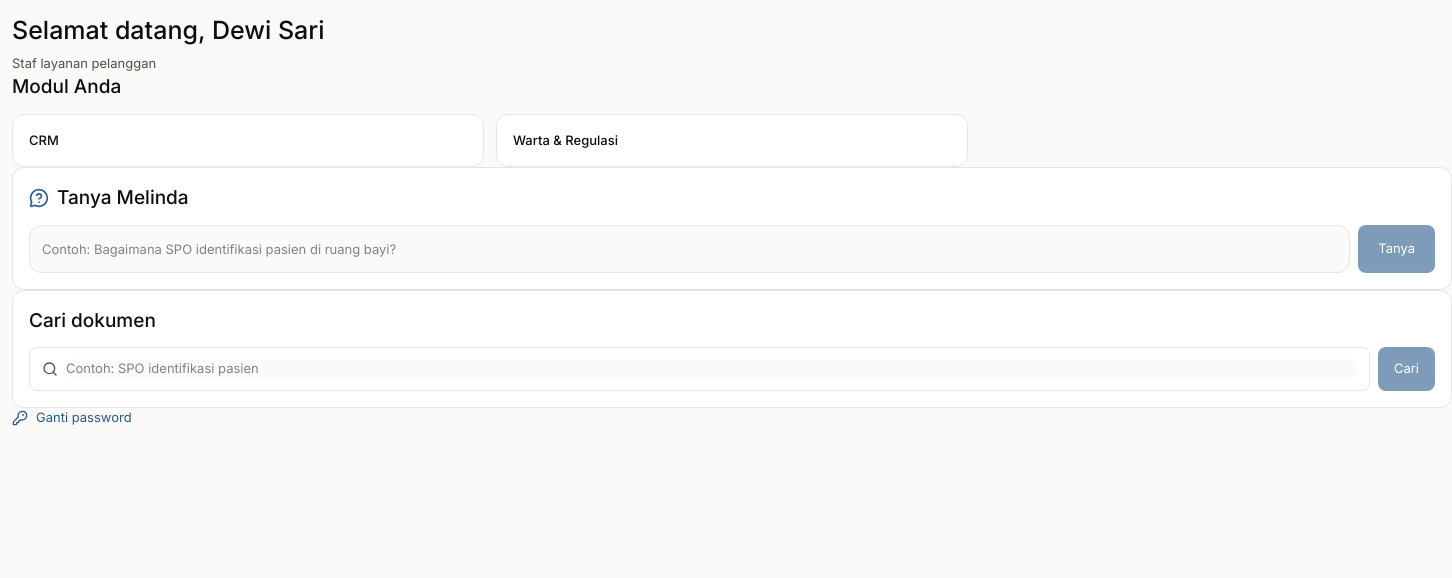
Test case: staff workspace › shows answer sources as plain text without links to the knowledge page
Type "cuci tangan" into the field named "Pertanyaan untuk Tanya Melinda" at (690, 248), box [29,224,1350,272]
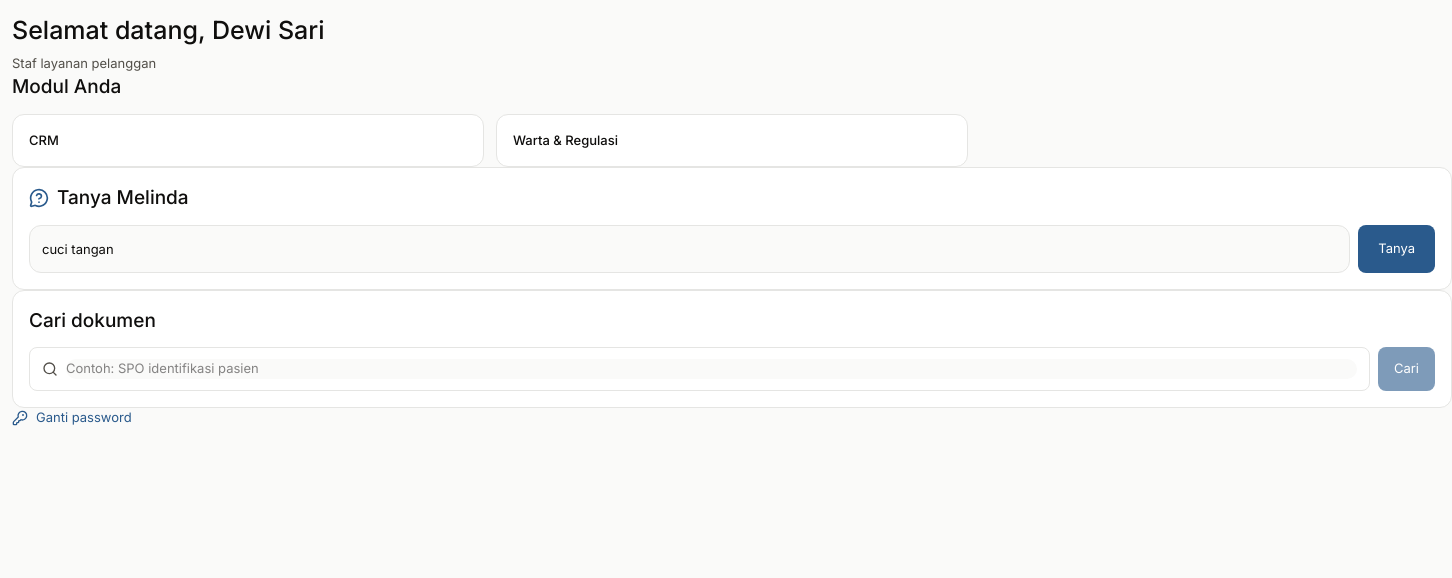
Submit the form named "Pertanyaan untuk Tanya Melinda", box [29,224,1435,272]
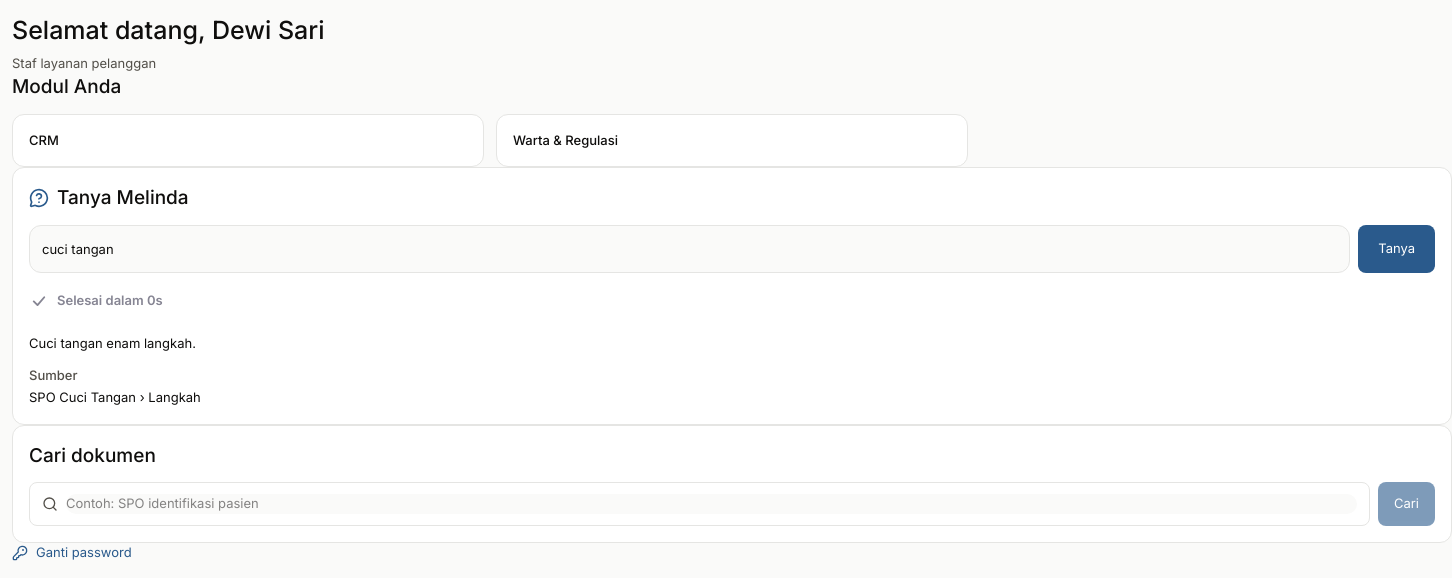
Expected: the text "SPO Cuci Tangan › Langkah" is shown, [29,389,201,405]
